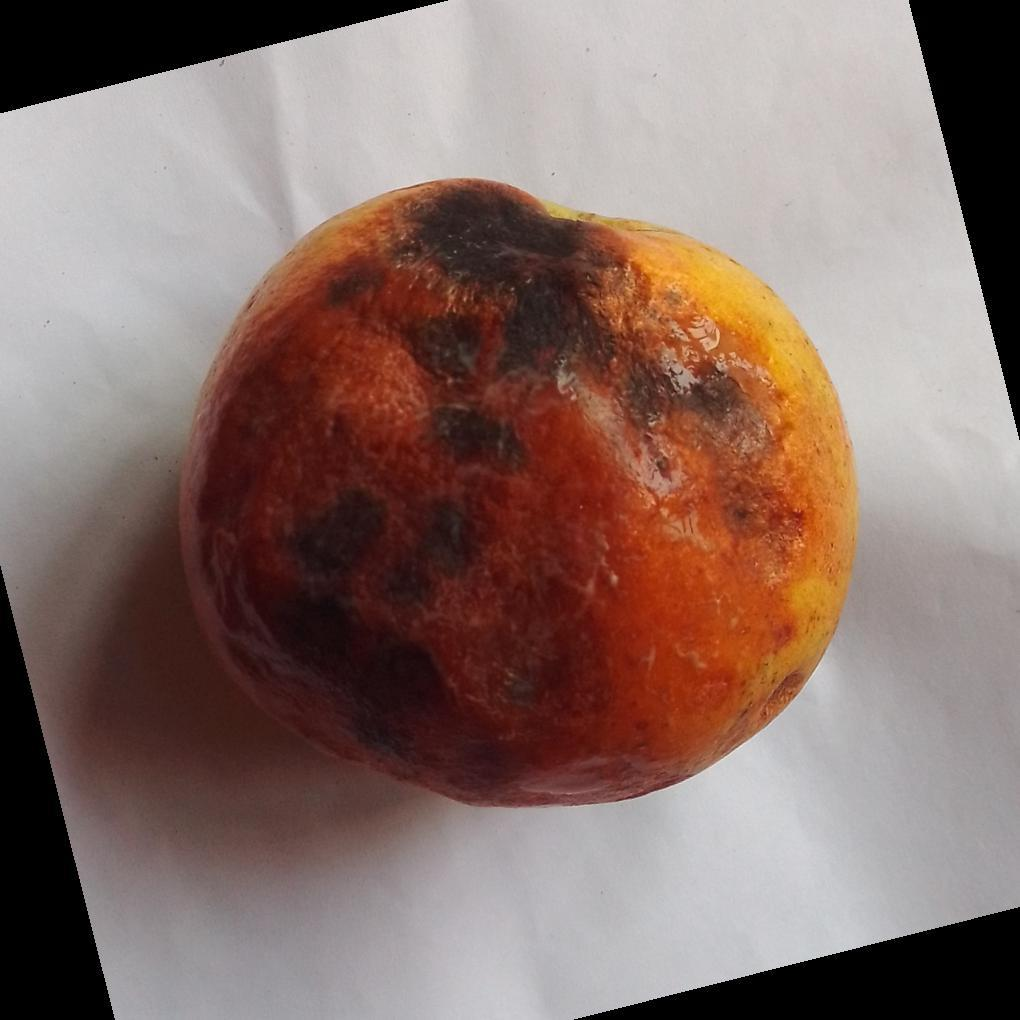FreshOrange: (176, 179, 860, 811)
